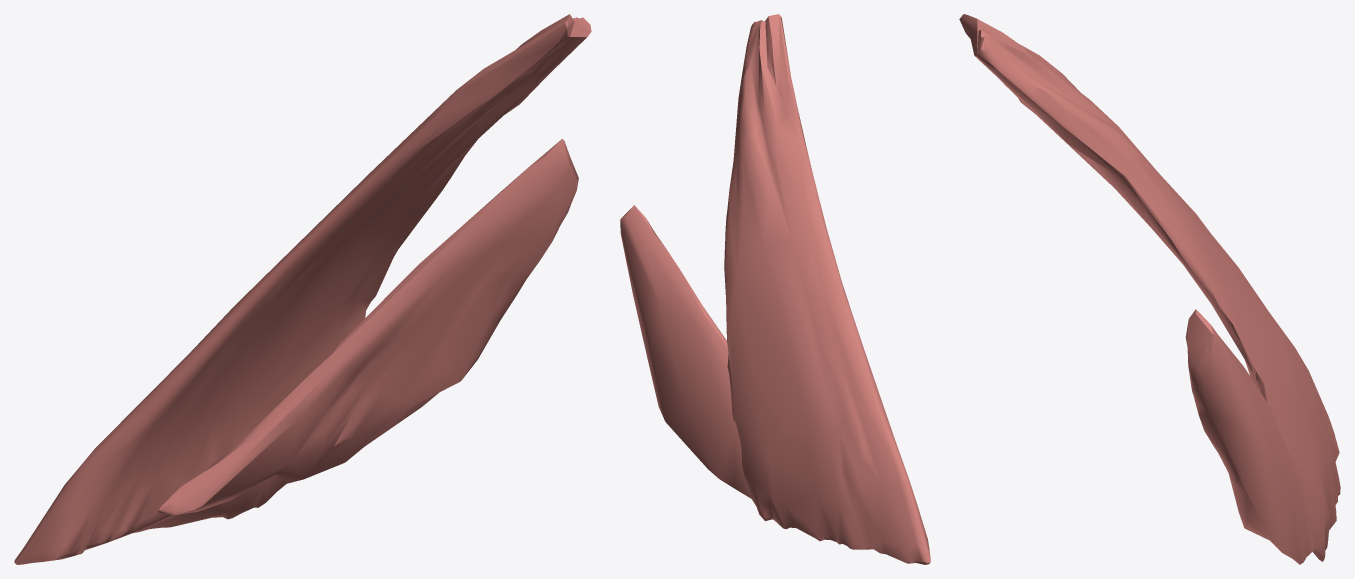
File: fma82370_mm4003m.glb
3 views of the same model, side by side, from view 1: azimuth 30°, elevation 25°; view 2: azimuth 150°, elevation 25°; view 3: azimuth 270°, elevation 25° (orthographic). The views are drawn at different scales.
Parts seen in each view (by area): view 1: FMA82370_MM4003M; view 2: FMA82370_MM4003M; view 3: FMA82370_MM4003M.
Part boxes in pixels (x1=…): FMA82370_MM4003M: x1=14, y1=14, x2=591, y2=564; FMA82370_MM4003M: x1=620, y1=14, x2=930, y2=564; FMA82370_MM4003M: x1=959, y1=14, x2=1340, y2=564.
Size of the model in its own units: 0.0368 by 0.0402 by 0.0221.
